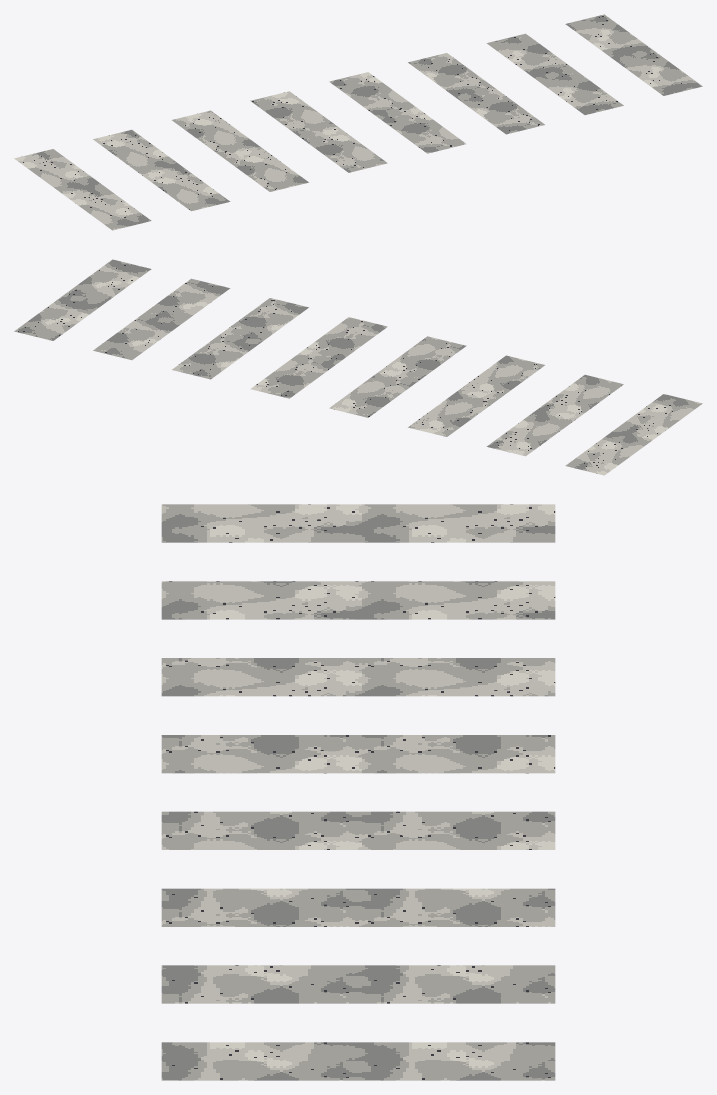
The model's file is SW_Crosswalk_7m.obj.
3 renders of one model, top to bottom at view 1: azimuth 30°, elevation 25°; view 2: azimuth 150°, elevation 25°; view 3: azimuth 270°, elevation 25°, orthographic. The views are drawn at different scales.
Visible parts, largest first — view 1: SW_Crosswalk_7m; view 2: SW_Crosswalk_7m; view 3: SW_Crosswalk_7m.
Boxes of the visible parts, x1=… form: SW_Crosswalk_7m: x1=14, y1=14, x2=702, y2=230; SW_Crosswalk_7m: x1=14, y1=259, x2=702, y2=475; SW_Crosswalk_7m: x1=161, y1=504, x2=555, y2=1080.
Bounding box in the file's own units: 6.75 × 0 × 1.95.
Materials: 1 (1 with a texture image).
